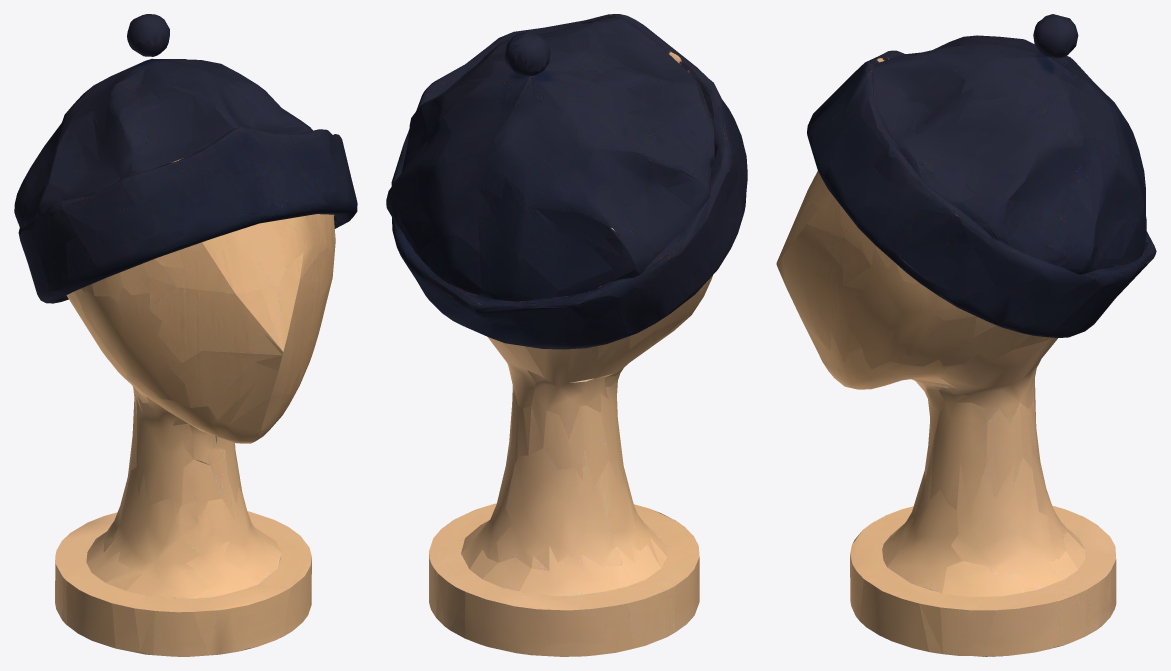
File: token-beret.glb
The picture shows the model from 3 angles, left to right: view 1: azimuth 30°, elevation 25°; view 2: azimuth 150°, elevation 25°; view 3: azimuth 270°, elevation 25°; orthographic projection. The views are drawn at different scales.
Size of the model in its own units: 1.03 by 1.9 by 1.12.
Materials: 1 (1 with a texture image).
